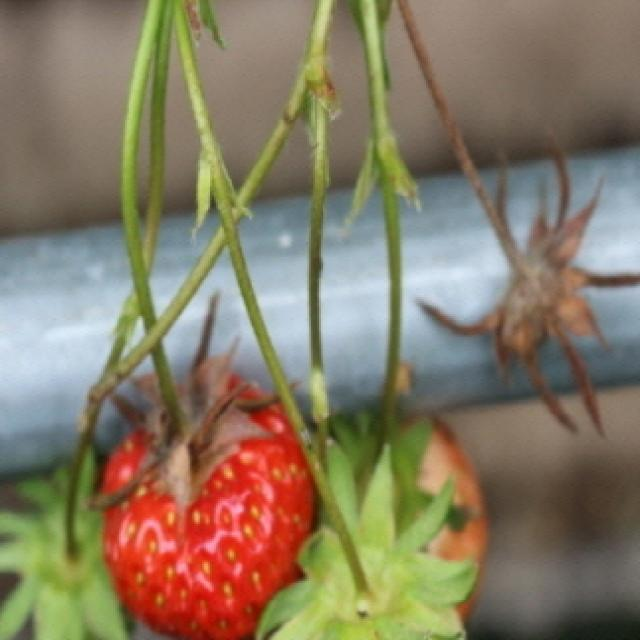Gray Mold: (419, 142, 640, 435)
